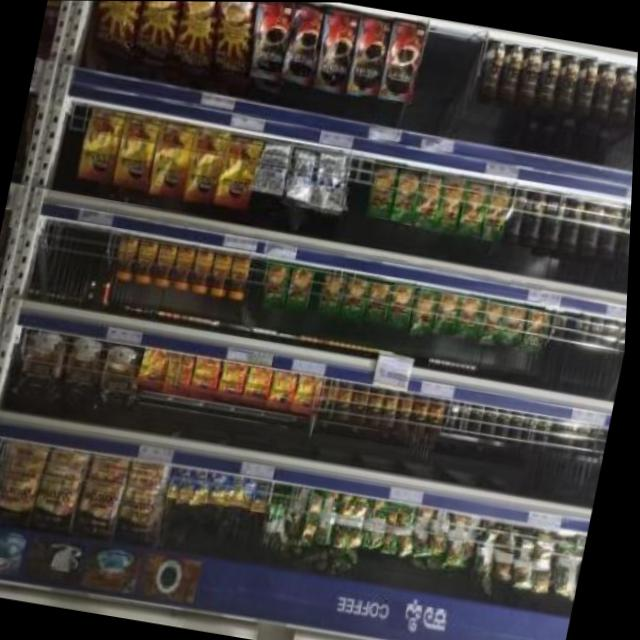Coffee: (313, 9, 360, 92), (149, 119, 197, 197), (377, 18, 423, 99), (245, 1, 294, 77), (346, 13, 392, 93), (184, 126, 231, 202), (114, 113, 162, 187), (79, 106, 127, 180), (216, 134, 262, 208), (282, 4, 326, 81), (165, 351, 197, 393), (192, 355, 224, 396), (219, 359, 250, 401), (245, 364, 276, 405), (134, 237, 161, 283), (272, 368, 302, 409), (141, 347, 171, 387), (210, 248, 236, 294), (115, 234, 141, 280), (153, 241, 179, 286), (228, 253, 254, 297), (172, 245, 198, 289), (296, 373, 325, 412), (191, 248, 216, 292)
